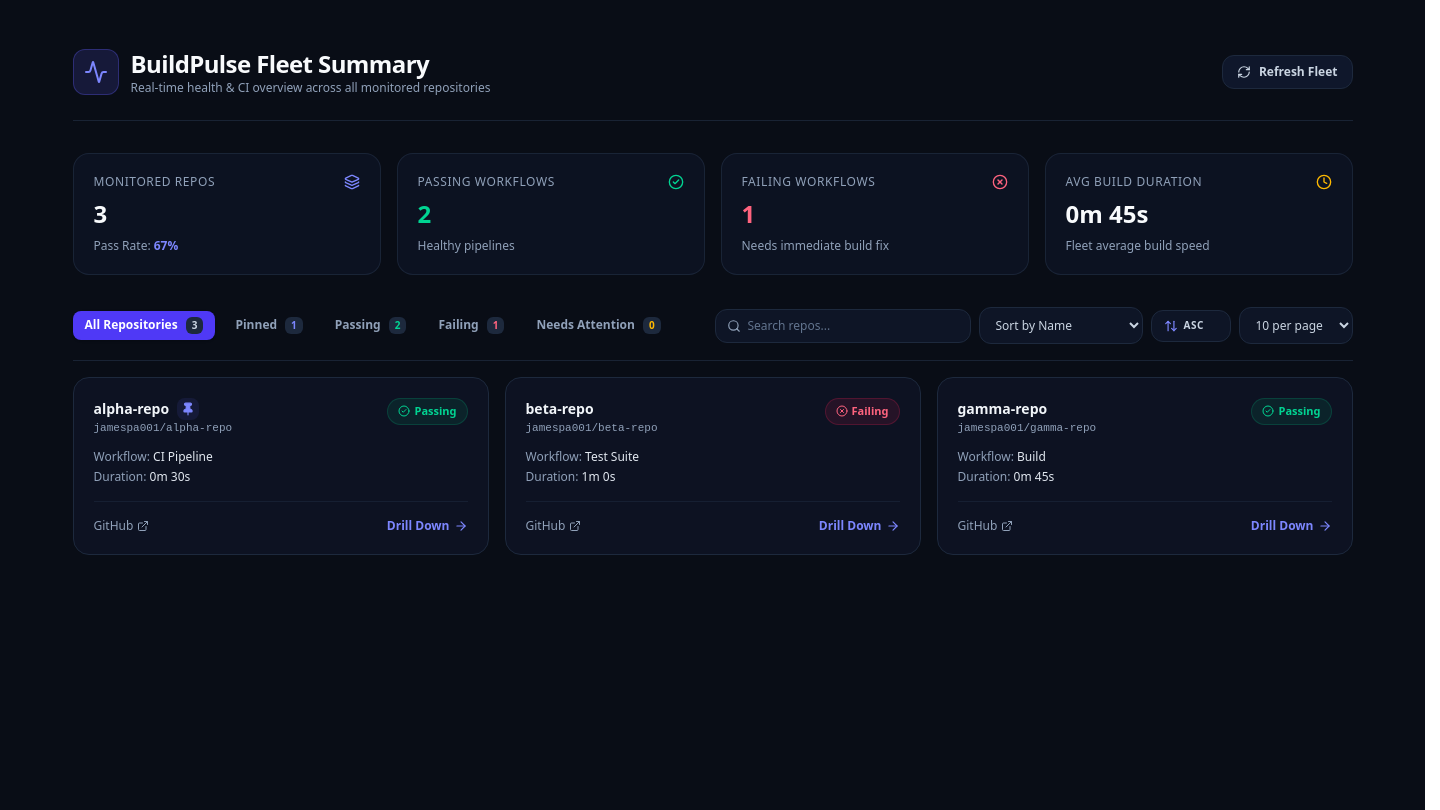
Test: SummaryLandingPage Component › filters repositories when clicking status tabs (e.g. Pinned or Passing)
Expected: the heading "alpha-repo" is shown, x1=94 y1=399 x2=169 y2=419
Click on Pinned tab
Click the tab "Pinned 1" at (269,325), box x1=223 y1=311 x2=315 y2=340
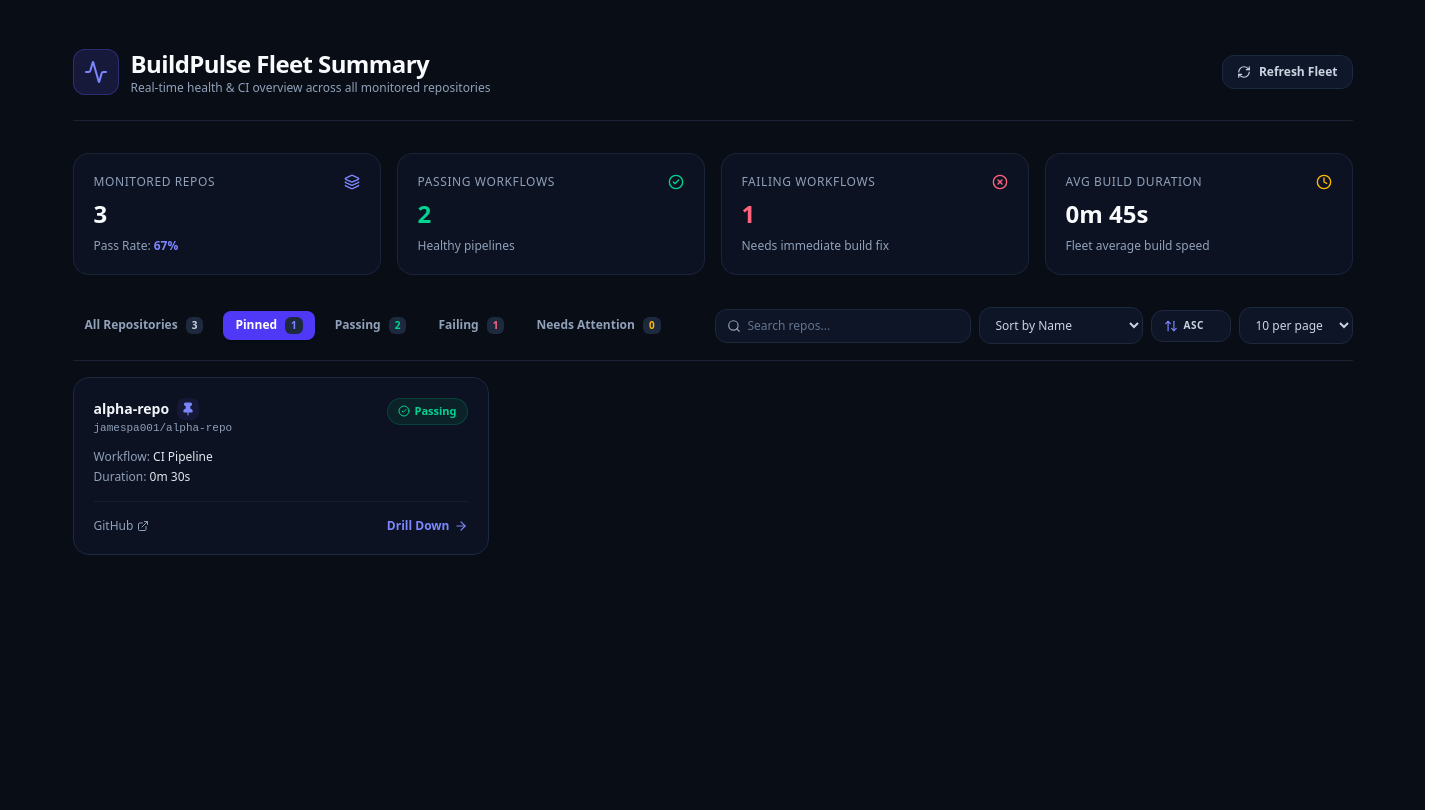
Expected: the heading "alpha-repo" is shown, x1=94 y1=399 x2=169 y2=419
Expected: the heading "beta-repo" is gone
